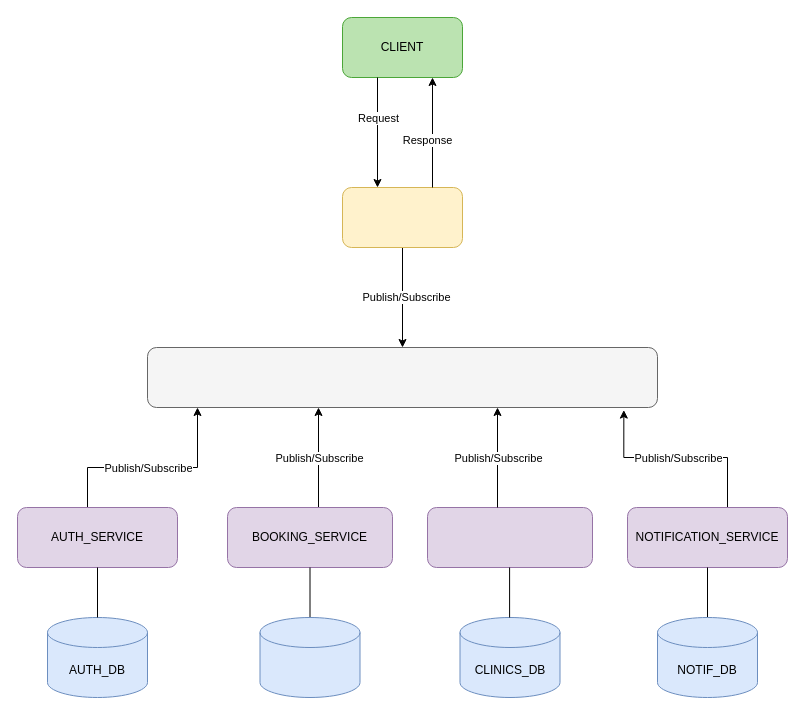
The diagram is 805 pixels wide and 715 high, and some of its shapes have lost their labels. Each missing label, with the centre of its shape:
API_GATEWAY: point 402,217
BOOKING_DB: point 309,657
CLINICS_SERVICE: point 509,537
MQTT: point 402,377
